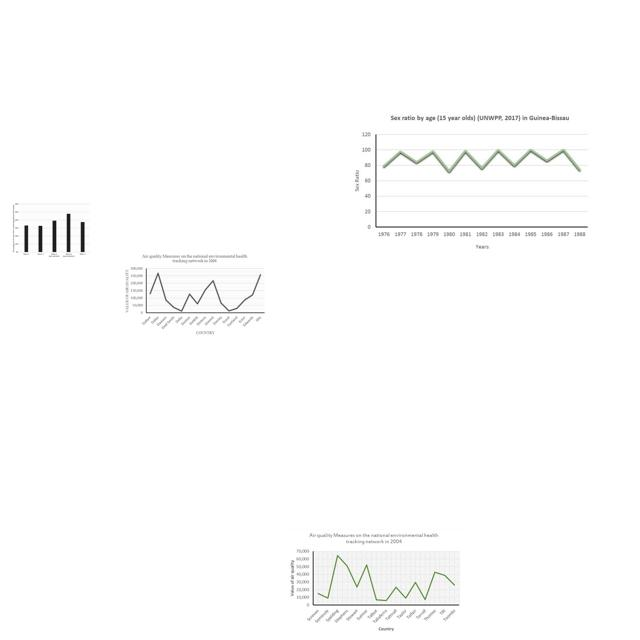Graph: (345, 110, 598, 256), (285, 529, 464, 632), (123, 252, 267, 336), (11, 200, 91, 258)
